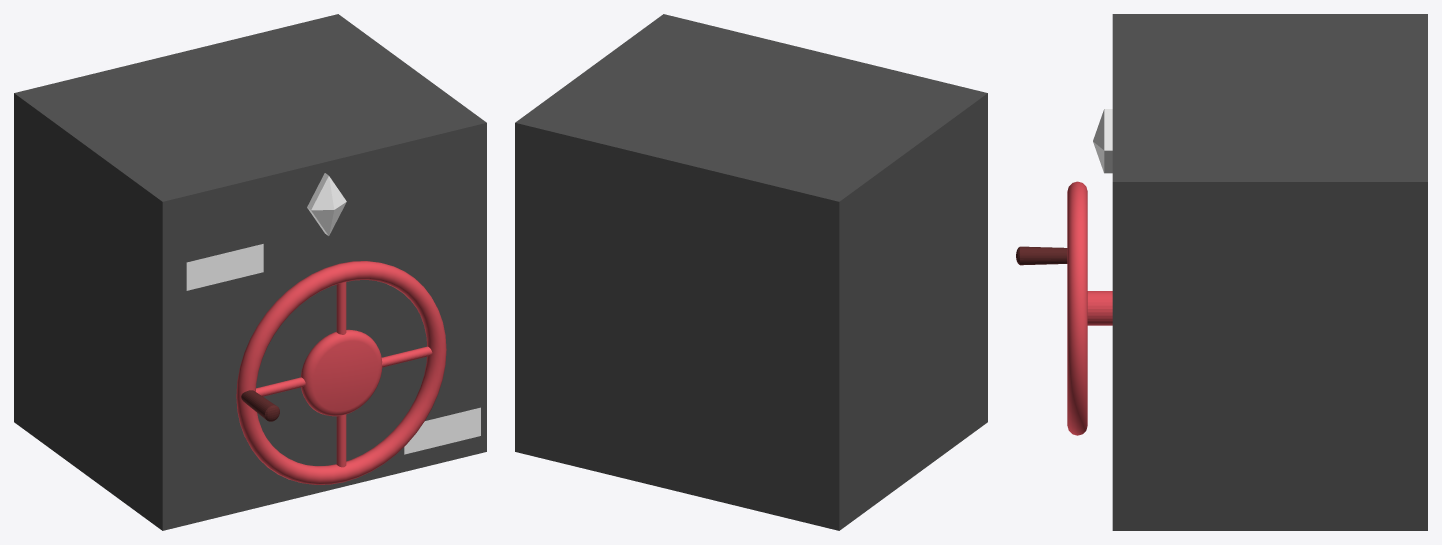
File: ハンドルモジュール.fbx
The picture shows the model from 3 angles, left to right: view 1: azimuth 30°, elevation 25°; view 2: azimuth 150°, elevation 25°; view 3: azimuth 270°, elevation 25°; orthographic projection. The views are drawn at different scales.
Parts seen in each view (by area): view 1: 立方体.001, ベジエ円.001, 平面, 平面.001, 立方体.002; view 2: 立方体.001; view 3: 立方体.001, ベジエ円.001, 立方体.002, 円柱.
Part boxes in pixels (box(x1,y1,x2,y2)): 立方体.001: box(14, 14, 486, 530); ベジエ円.001: box(236, 261, 446, 484); 平面: box(186, 244, 263, 290); 平面.001: box(404, 407, 480, 454); 立方体.002: box(307, 173, 346, 235); 立方体.001: box(515, 14, 987, 530); 立方体.001: box(1112, 14, 1427, 530); ベジエ円.001: box(1016, 181, 1087, 435); 立方体.002: box(1093, 109, 1112, 173); 円柱: box(1087, 291, 1112, 325).
Bounding box in the file's own units: 60.98 × 59.14 × 63.25.
